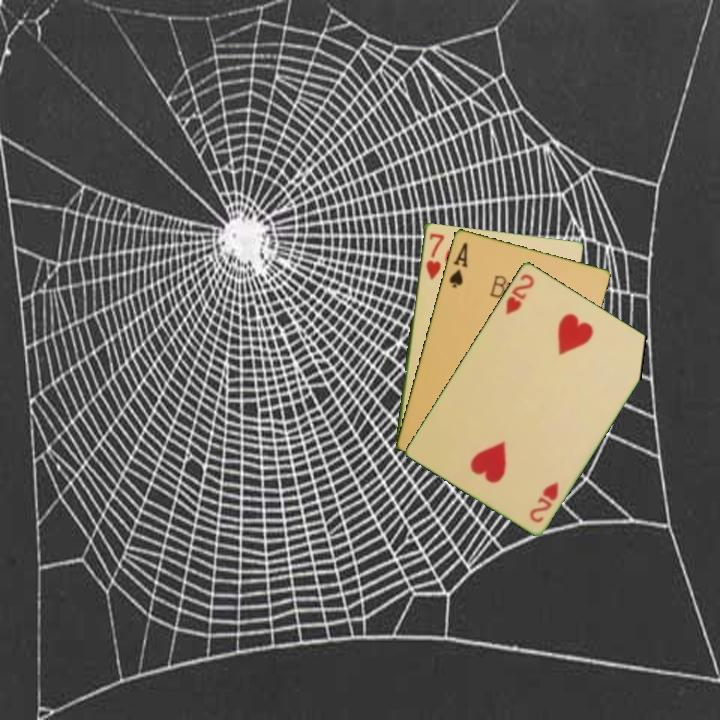2h: (502, 270, 537, 318), (526, 478, 561, 525)
7h: (422, 230, 447, 282)
As: (445, 238, 470, 291)
